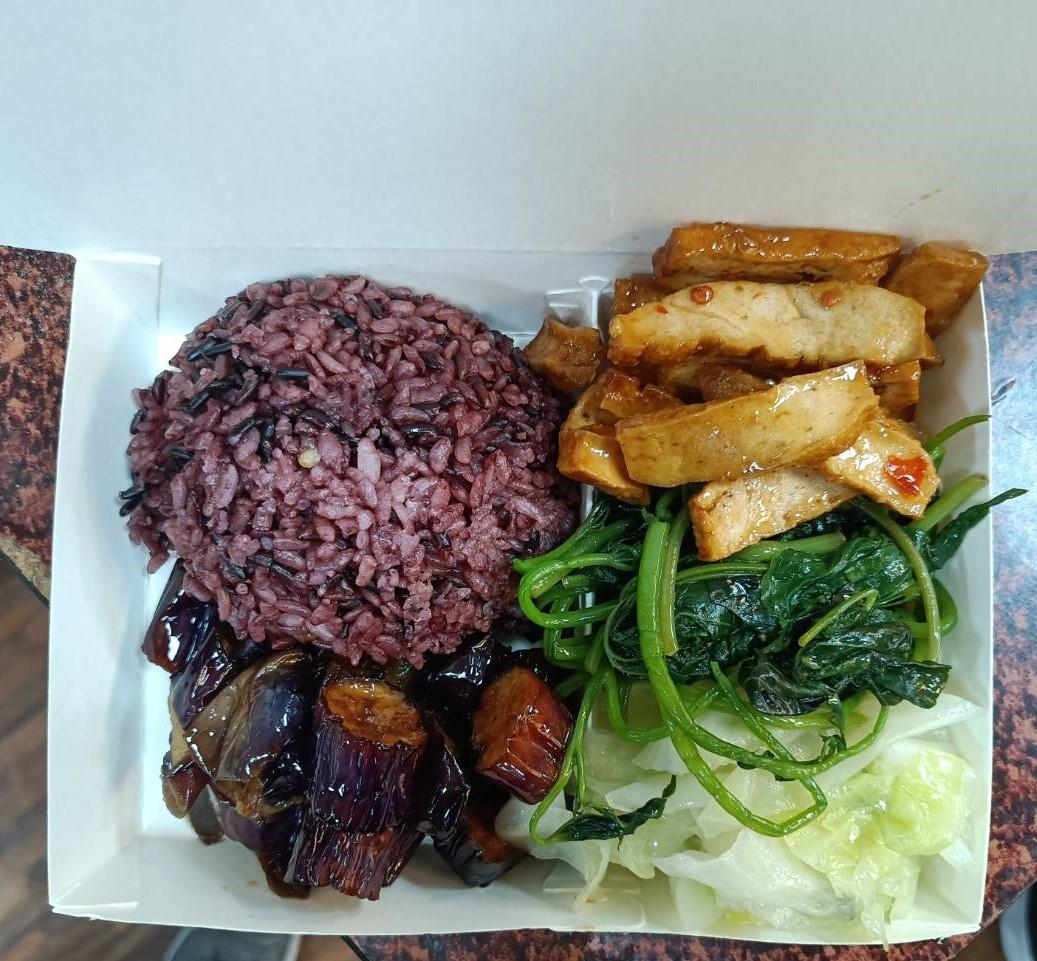big grilled chicken leg: (10, 202, 1030, 949)
braised fish: (122, 266, 582, 663)
braised fish fillet: (568, 230, 964, 538), (559, 480, 975, 750), (150, 648, 593, 901), (585, 680, 956, 914)
